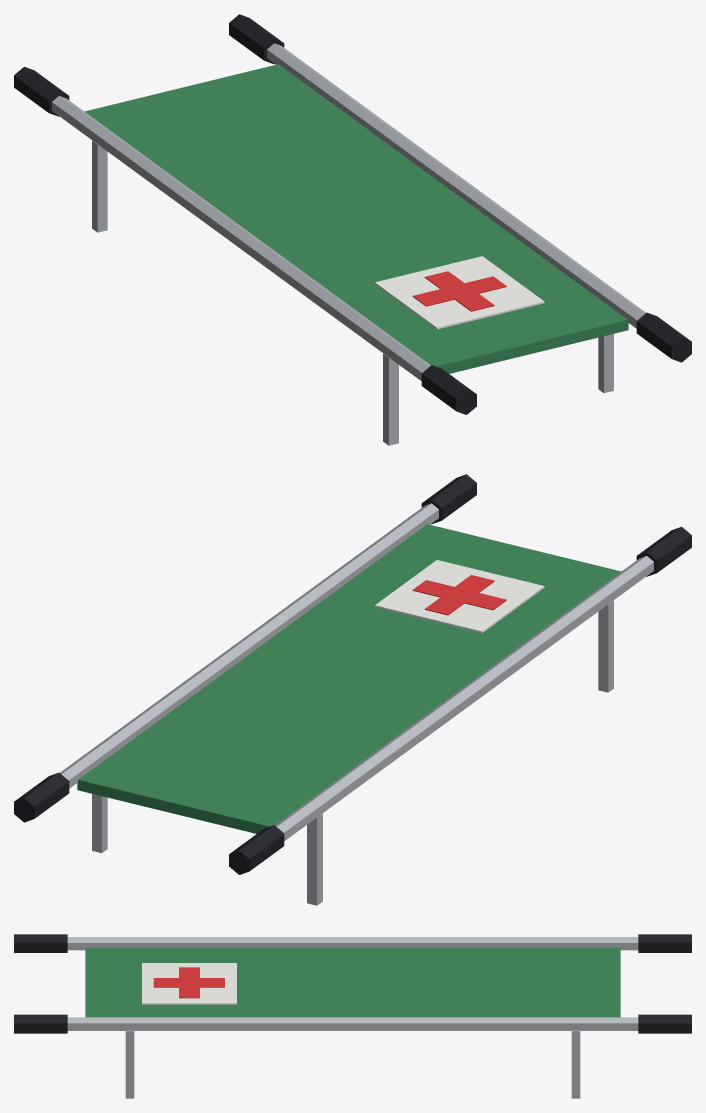
Rendered from stretcher.glb.
The picture shows the model from 3 angles, top to bottom: view 1: azimuth 30°, elevation 25°; view 2: azimuth 150°, elevation 25°; view 3: azimuth 270°, elevation 25°; orthographic projection. The views are drawn at different scales.
Visible parts, largest first — view 1: canvas_stretcher_canvas, poles_stretcher_pole, grips_stretcher_grip, cross_goal_white, legs_stretcher_pole, cross_stretcher_cross; view 2: canvas_stretcher_canvas, poles_stretcher_pole, grips_stretcher_grip, cross_goal_white, legs_stretcher_pole, cross_stretcher_cross; view 3: canvas_stretcher_canvas, poles_stretcher_pole, grips_stretcher_grip, cross_goal_white, legs_stretcher_pole, cross_stretcher_cross.
Boxes of the visible parts, box(x1,y1,x2,y2) form: canvas_stretcher_canvas: box(84, 64, 628, 373); poles_stretcher_pole: box(52, 43, 645, 380); grips_stretcher_grip: box(14, 14, 691, 414); cross_goal_white: box(375, 256, 544, 329); legs_stretcher_pole: box(92, 140, 613, 445); cross_stretcher_cross: box(412, 271, 506, 311); canvas_stretcher_canvas: box(77, 524, 621, 833); poles_stretcher_pole: box(60, 503, 653, 840); grips_stretcher_grip: box(14, 474, 691, 874); cross_goal_white: box(375, 560, 544, 633); legs_stretcher_pole: box(92, 600, 613, 905); cross_stretcher_cross: box(412, 575, 506, 615); canvas_stretcher_canvas: box(85, 947, 620, 1017); poles_stretcher_pole: box(67, 937, 638, 1030); grips_stretcher_grip: box(14, 934, 691, 1033); cross_goal_white: box(142, 963, 236, 1004); legs_stretcher_pole: box(125, 1030, 580, 1098); cross_stretcher_cross: box(153, 967, 224, 998).
Bounding box in the file's own units: 0.7006 × 0.305 × 2.28.
